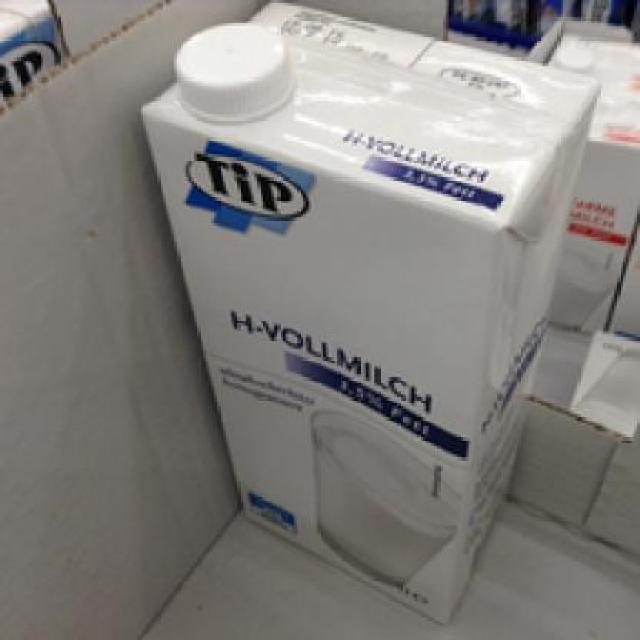Milk: (137, 0, 606, 620)
